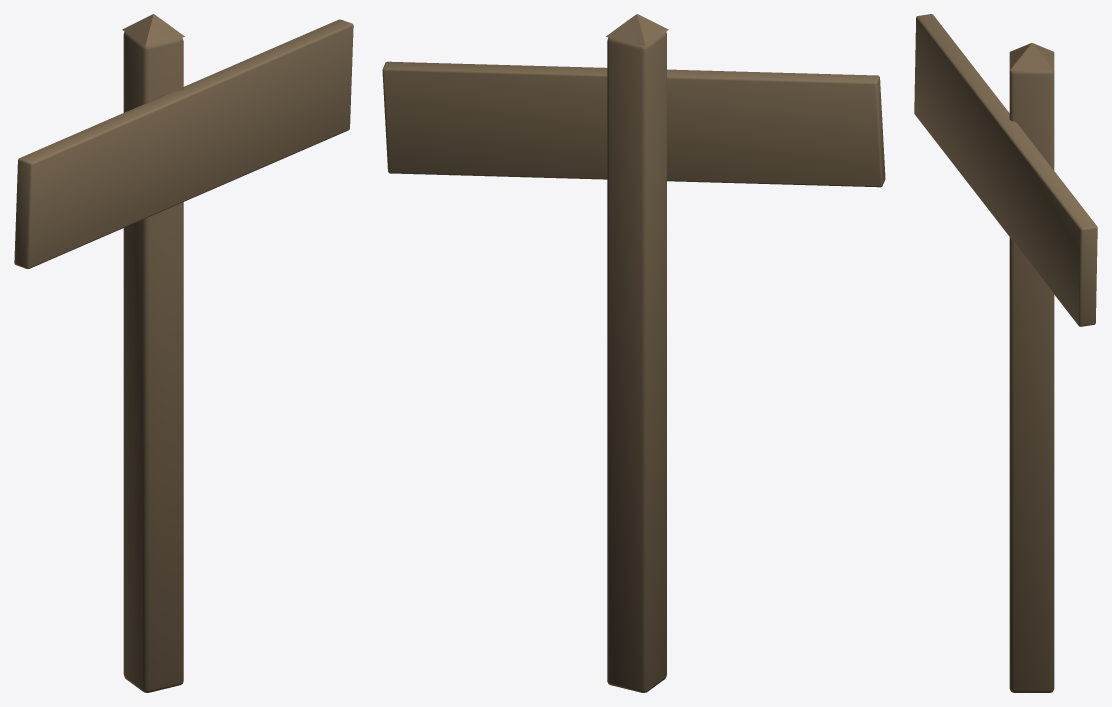
Rendered from dock_sign.glb.
3 views of the same model, side by side, from view 1: azimuth 30°, elevation 25°; view 2: azimuth 150°, elevation 25°; view 3: azimuth 270°, elevation 25° (orthographic). The views are drawn at different scales.
Visible parts, largest first — view 1: g_plank, g_post; view 2: g_plank, g_post; view 3: g_post, g_plank.
Part boxes in pixels (left/top/right/bottom): g_plank: left=14, top=19, right=353, bottom=268; g_post: left=122, top=14, right=184, bottom=692; g_plank: left=382, top=61, right=885, bottom=187; g_post: left=606, top=14, right=668, bottom=692; g_post: left=1009, top=43, right=1054, bottom=692; g_plank: left=914, top=14, right=1097, bottom=326.
Size of the model in its own units: 1.25 by 1.9 by 0.493.
